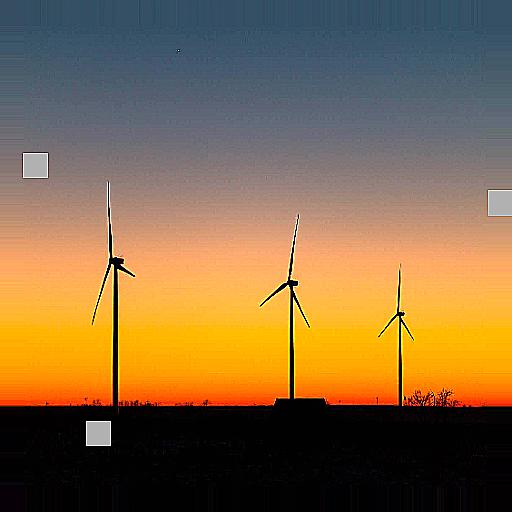wind turbine: (87, 178, 136, 400), (260, 214, 310, 392), (375, 264, 415, 401)
